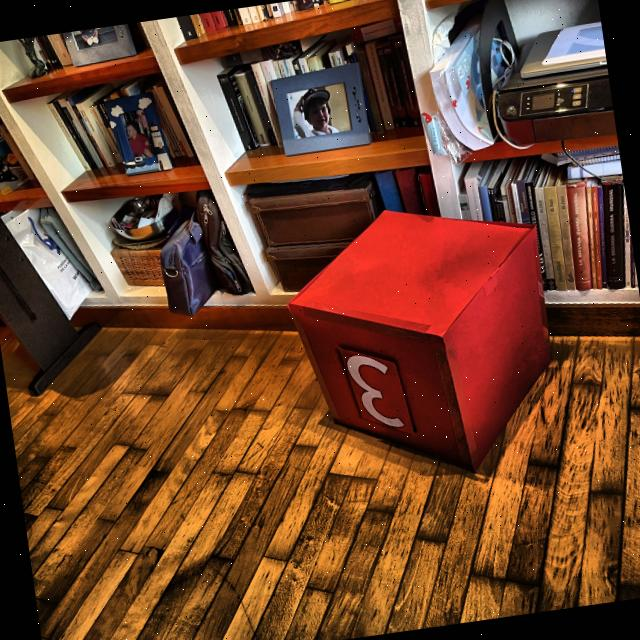red box: (280, 190, 568, 496)
three: (344, 344, 408, 438)
